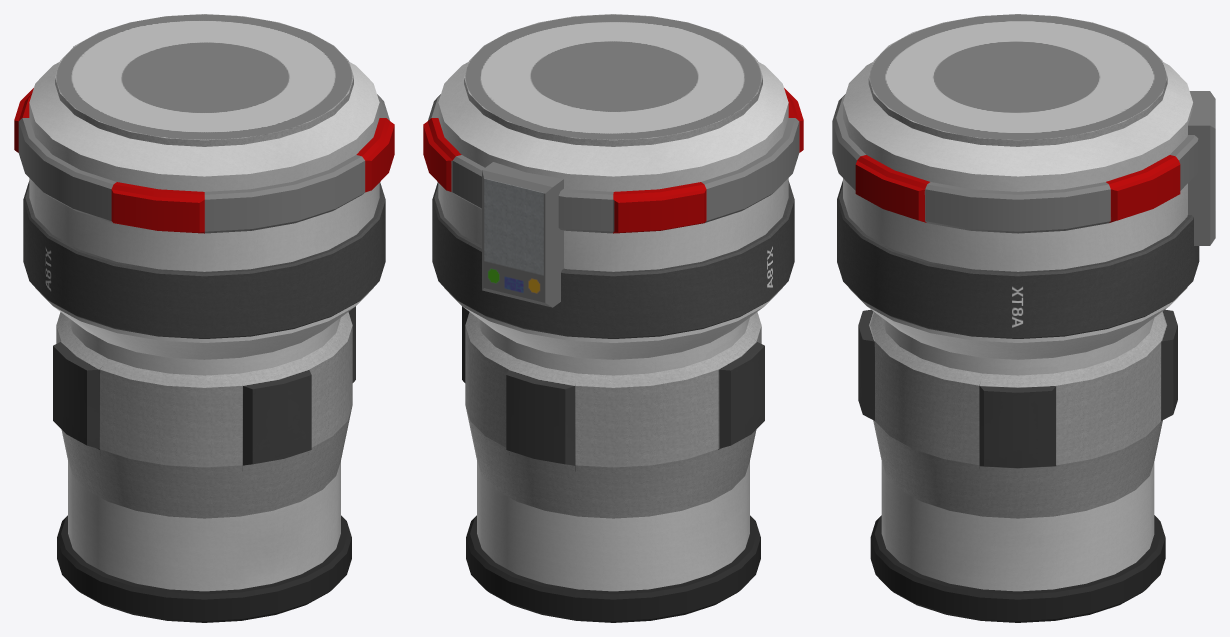
File: SpaceCrane-core.fbx
3 renders of one model, left to right at view 1: azimuth 30°, elevation 25°; view 2: azimuth 150°, elevation 25°; view 3: azimuth 270°, elevation 25°, orthographic.
Parts seen in each view (by area): view 1: base; view 2: base, core; view 3: base, core.
Part boxes in pixels (left/top/right/bottom): base: left=14, top=14, right=394, bottom=622; base: left=423, top=14, right=803, bottom=622; core: left=482, top=162, right=563, bottom=307; base: left=832, top=14, right=1199, bottom=622; core: left=1188, top=91, right=1215, bottom=245.
Size of what is drawn, in the model's own units: 1.7 by 2.45 by 1.76.
